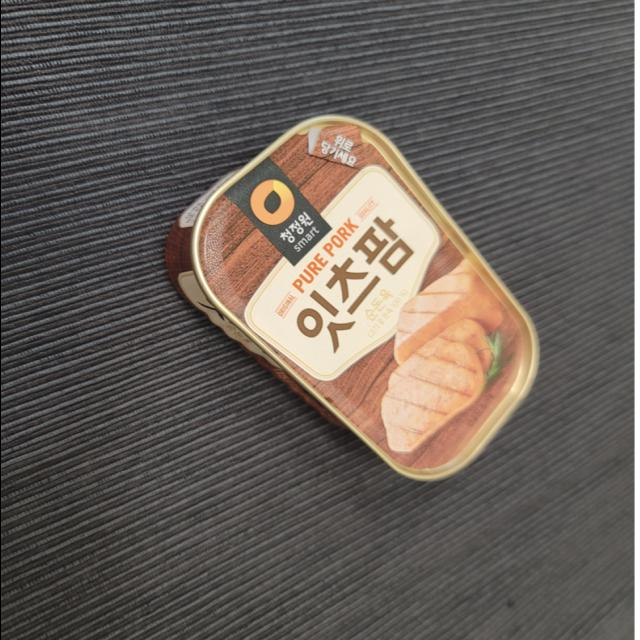can: (148, 97, 576, 504)
